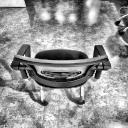chair_success: (8, 43, 113, 107)
